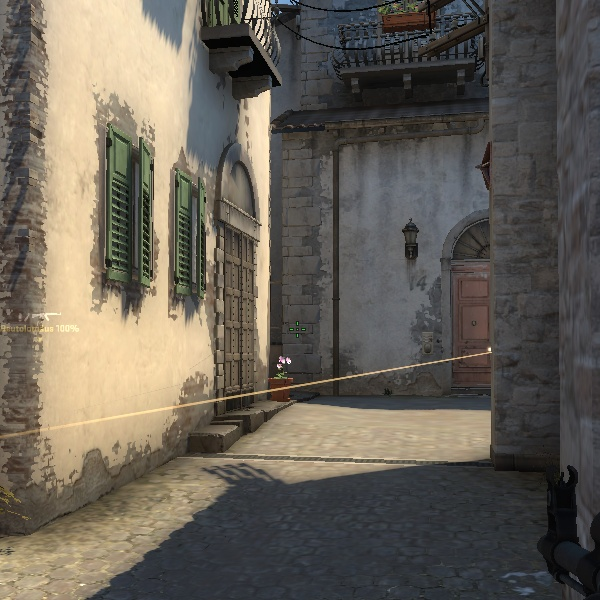ct_body: (271, 353, 296, 387)
